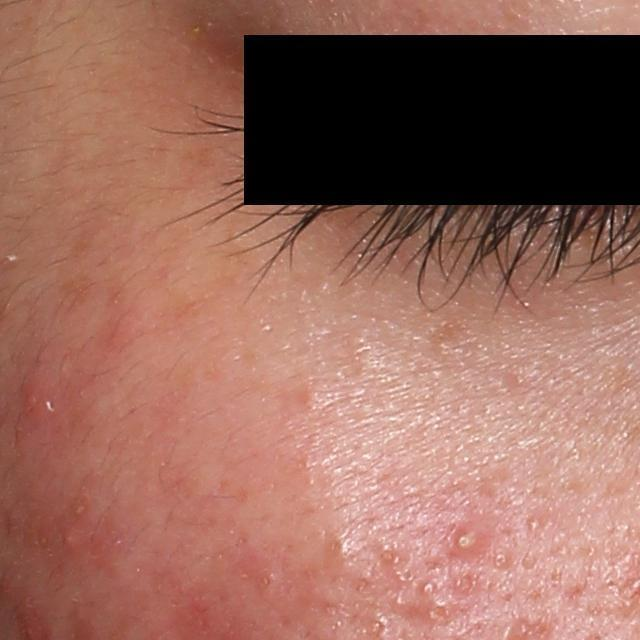comedo: (375, 541, 405, 571), (491, 552, 511, 574), (420, 579, 437, 597), (526, 516, 543, 533)
papule: (10, 365, 48, 418)
pustule: (447, 523, 491, 561)
